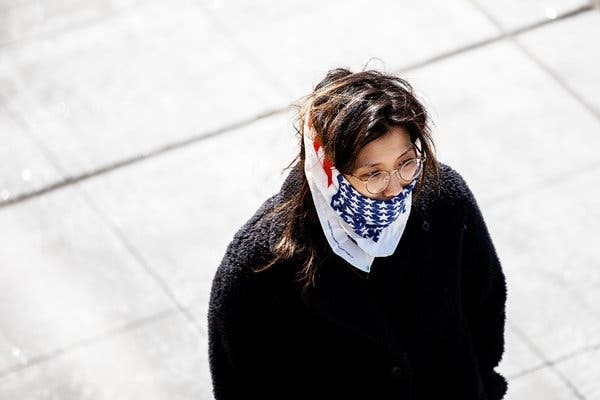face_with_mask: (313, 93, 422, 252)
